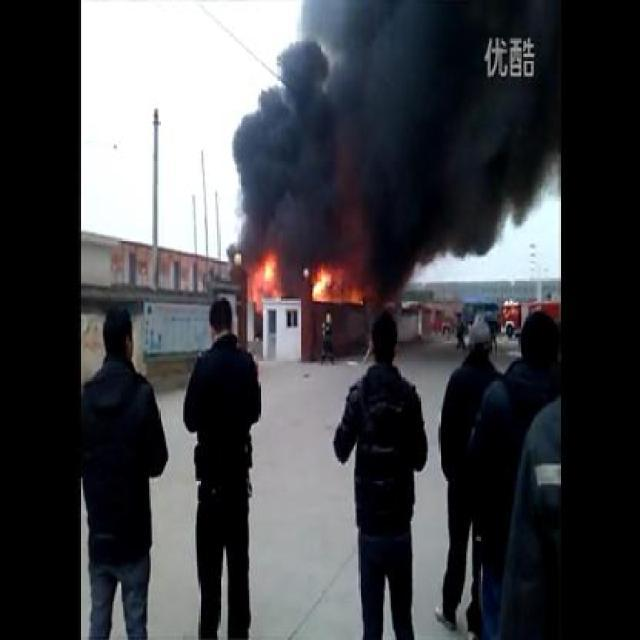Fire: (310, 268, 369, 301), (248, 252, 282, 304)
Smoke: (234, 0, 560, 248)
